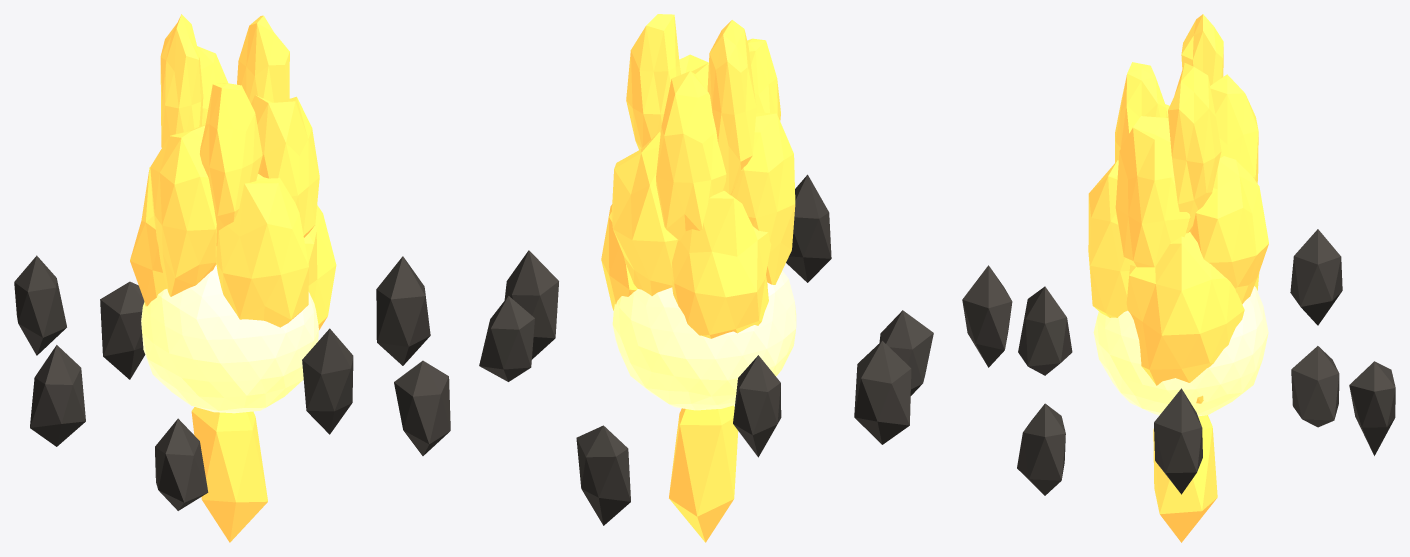
The model's file is wb_ember_wisp.glb.
3 views of the same model, side by side, from view 1: azimuth 30°, elevation 25°; view 2: azimuth 150°, elevation 25°; view 3: azimuth 270°, elevation 25° (orthographic). The views are drawn at different scales.
Visible parts, largest first — view 1: wb_ember_wisp; view 2: wb_ember_wisp; view 3: wb_ember_wisp.
Part boxes in pixels (left/top/right/bottom): wb_ember_wisp: left=14, top=14, right=450, bottom=542; wb_ember_wisp: left=479, top=14, right=933, bottom=542; wb_ember_wisp: left=962, top=14, right=1395, bottom=542.
Size of the model in its own units: 1.41 by 1.81 by 1.39.
